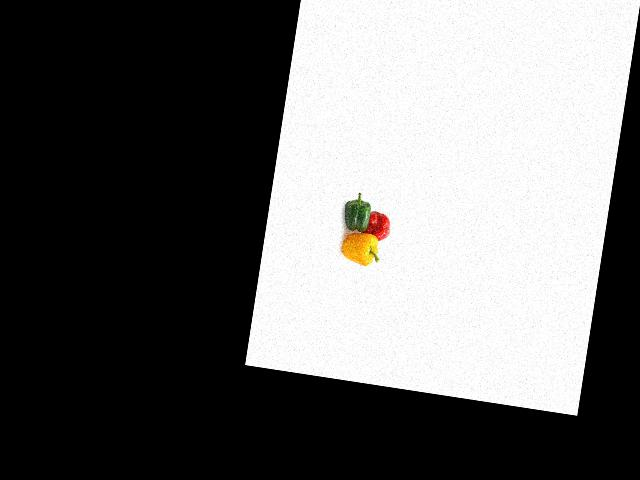bell_pepper: (340, 193, 376, 240)
